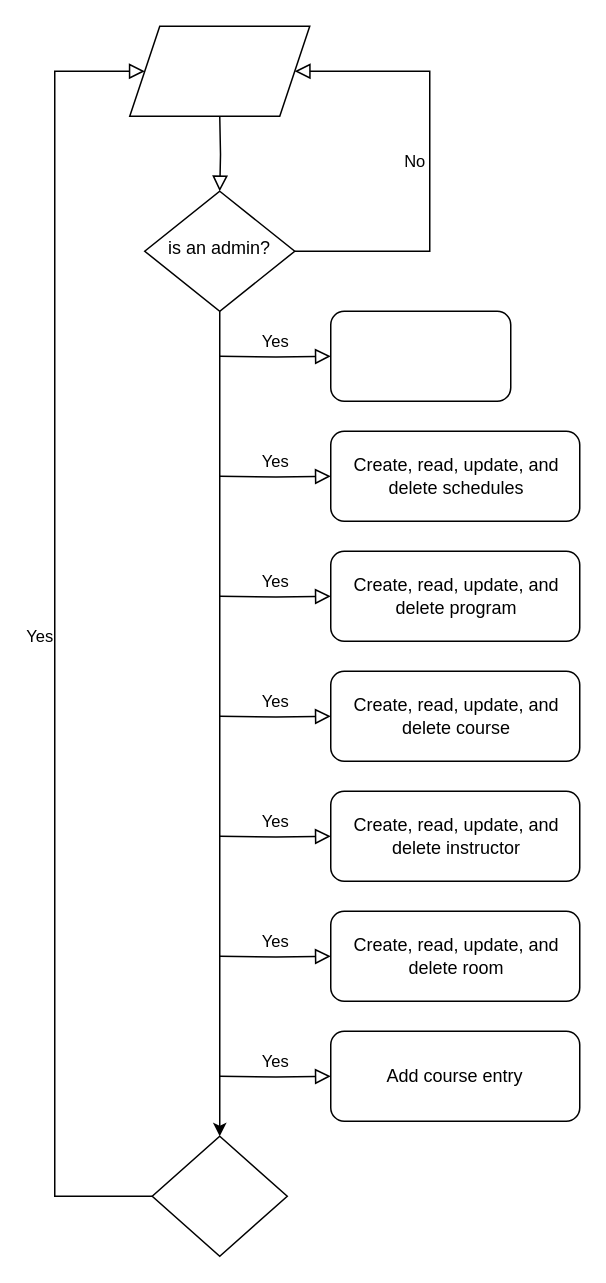
The diagram is 606 pixels wide and 1283 high, and some of its shapes have lost their labels. The centre of each missing label's shape, as x and y in pixels:
admin login: point 219,70
admin logout?: point 219,1195
Show home page: point 420,355
